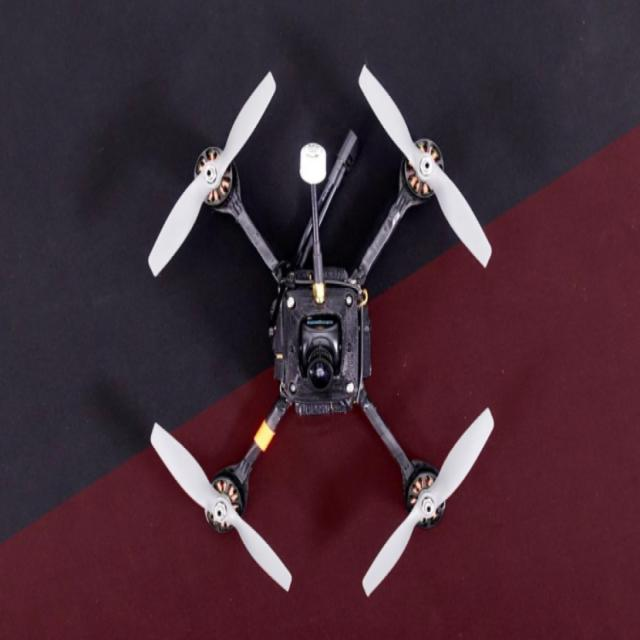drone: (108, 64, 527, 598)
